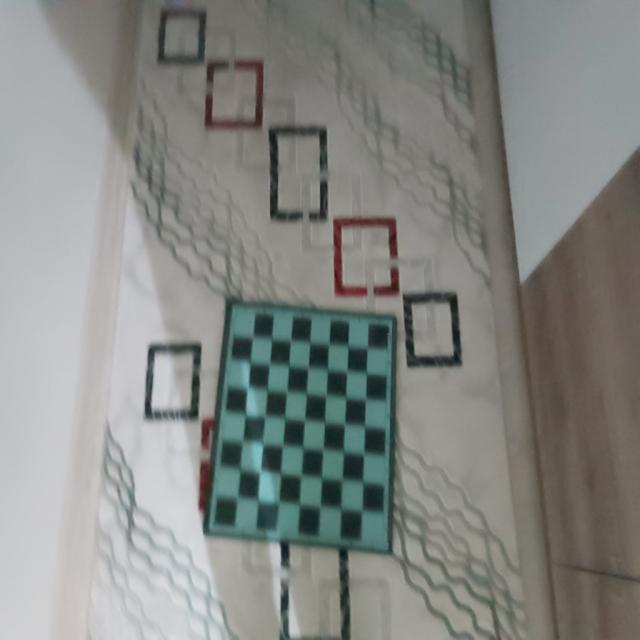corner: (210, 516, 220, 532), (382, 318, 392, 333), (232, 303, 242, 317), (379, 537, 389, 550)
